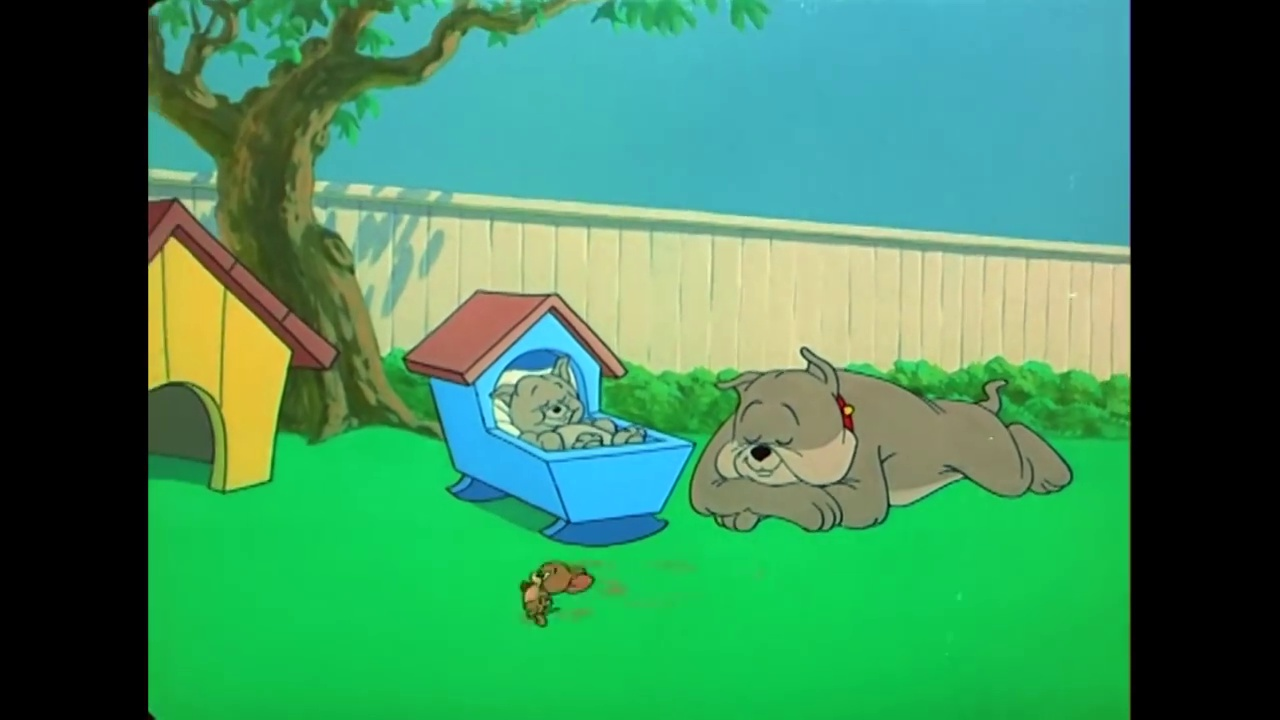spike: (712, 346, 861, 489)
